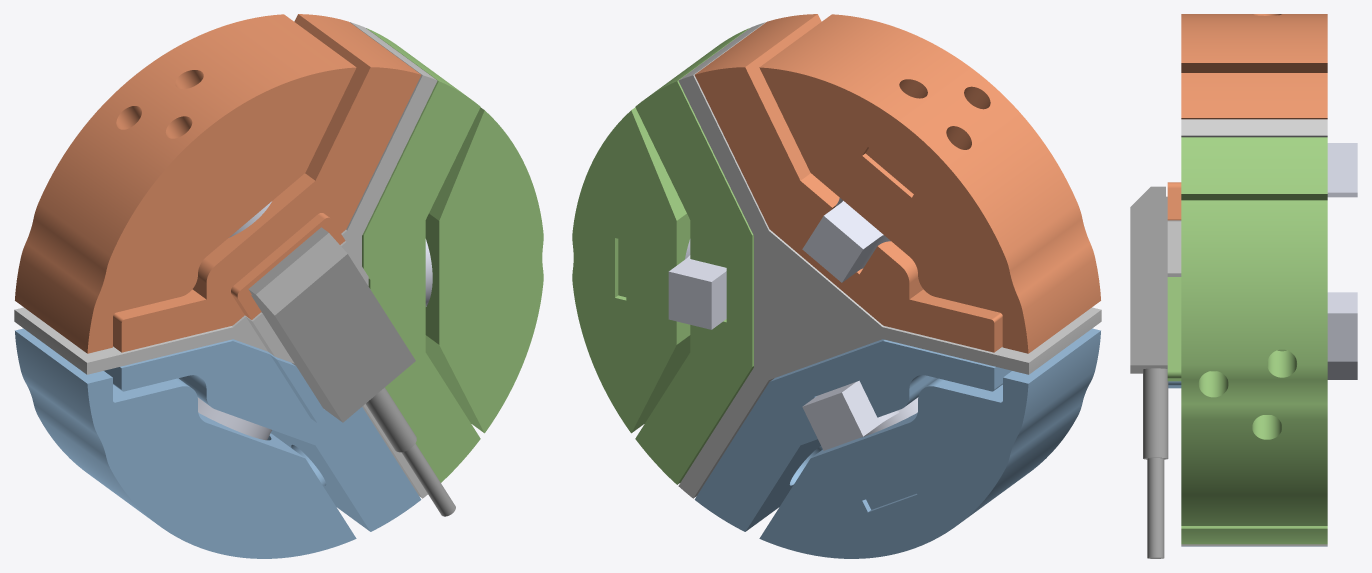
The picture shows the model from 3 angles, left to right: view 1: azimuth 30°, elevation 25°; view 2: azimuth 150°, elevation 25°; view 3: azimuth 270°, elevation 25°; orthographic projection.
Visible parts, largest first — view 1: ati_cover_middle, ati_cover_index, ati_cover_thumb, ati_base_middle, ati_base_thumb, viper, ati_base_index, mid_connect, ATI_nano17; view 2: ati_cover_middle, ati_cover_index, ati_cover_thumb, ati_base_middle, mid_connect, ati_base_thumb, ati_base_index, ATI_nano17 (×3); view 3: ati_cover_thumb, ati_base_thumb, viper, ati_cover_middle, ati_base_middle, ATI_nano17 (×3), mid_connect.
Part boxes in pixels (box(x1,y1,x2,y2)): ati_cover_middle: box(15, 14, 356, 353); ati_cover_index: box(15, 328, 356, 558); ati_cover_thumb: box(425, 107, 543, 433); ati_base_middle: box(113, 14, 421, 352); ati_base_thumb: box(362, 28, 480, 482); viper: box(248, 227, 455, 516); ati_base_index: box(104, 339, 421, 531); mid_connect: box(14, 22, 437, 498); ATI_nano17: box(197, 397, 271, 440); ati_cover_middle: box(759, 14, 1100, 353); ati_cover_index: box(759, 328, 1100, 558); ati_cover_thumb: box(572, 107, 690, 433); ati_base_middle: box(694, 14, 1002, 352); mid_connect: box(678, 22, 1101, 498); ati_base_thumb: box(635, 28, 753, 484); ati_base_index: box(694, 339, 1011, 531); ATI_nano17 (×3): box(668, 198, 918, 450); ati_cover_thumb: box(1181, 200, 1327, 525); ati_base_thumb: box(1167, 137, 1327, 544); viper: box(1130, 186, 1181, 558); ati_cover_middle: box(1181, 14, 1327, 72); ati_base_middle: box(1167, 73, 1327, 220); ATI_nano17 (×3): box(1327, 143, 1357, 379); mid_connect: box(1167, 119, 1327, 546).
Bounding box in the file's own units: 0.0798 × 0.08 × 0.0341.
